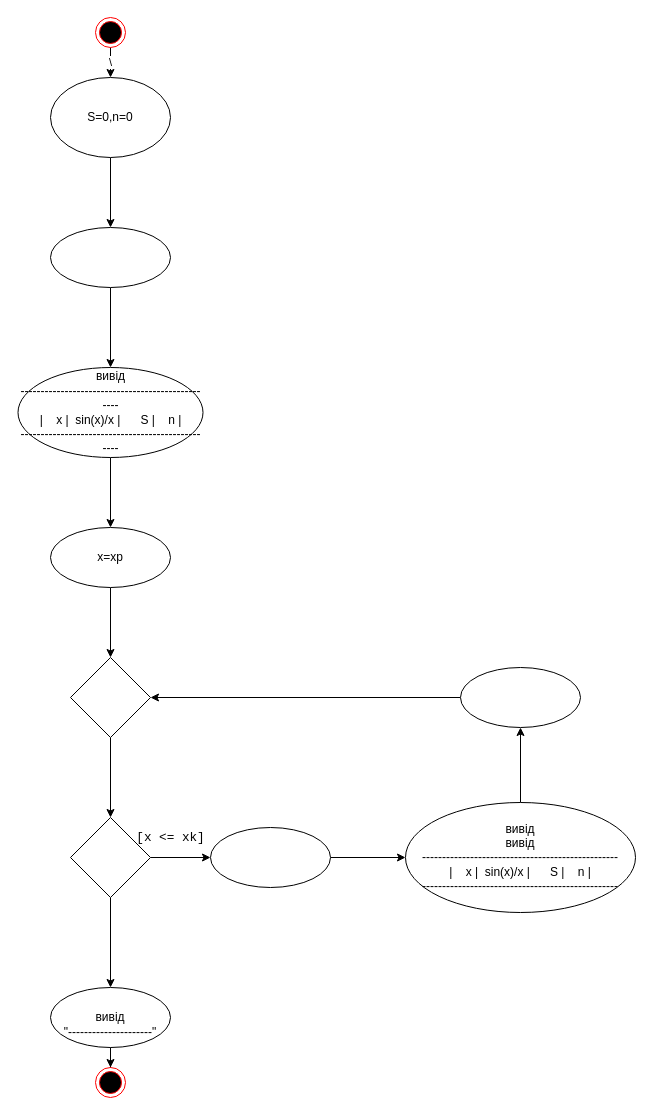
This 653x1115 diagram has some shape labels left out. The centre of each missing label's shape, as x and y in pixels:
"S(x, eps, n, s)" belongs at (x=270, y=857).
"x += dx" belongs at (x=520, y=697).
"ввід xp,xk,dx,eps" belongs at (x=110, y=257).
